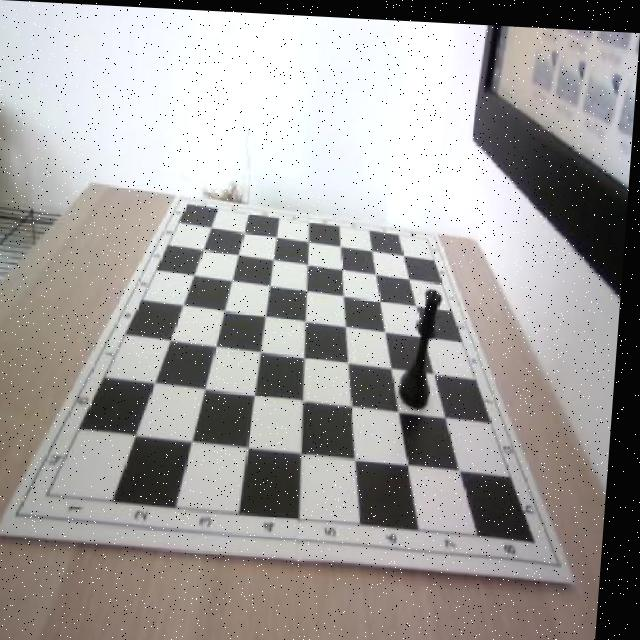black-pawn: (403, 282, 451, 408)
